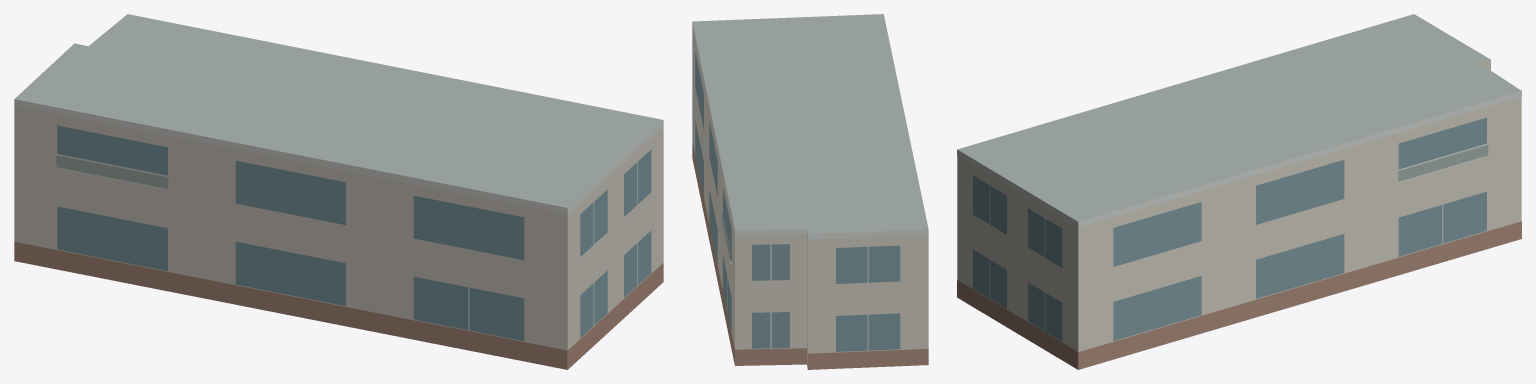
Rendered from survey-upis-33019826.glb.
3 views of the same model, side by side, from view 1: azimuth 30°, elevation 25°; view 2: azimuth 150°, elevation 25°; view 3: azimuth 270°, elevation 25° (orthographic). The views are drawn at different scales.
Visible parts, largest first — view 1: survey-upis-33019826.tmp; view 2: survey-upis-33019826.tmp; view 3: survey-upis-33019826.tmp.
Part boxes in pixels (bbox=[...]): survey-upis-33019826.tmp: bbox=[14, 14, 663, 369]; survey-upis-33019826.tmp: bbox=[692, 14, 928, 369]; survey-upis-33019826.tmp: bbox=[957, 14, 1521, 369].
Bounding box in the file's own units: 18.37 × 6.1 × 21.09.
